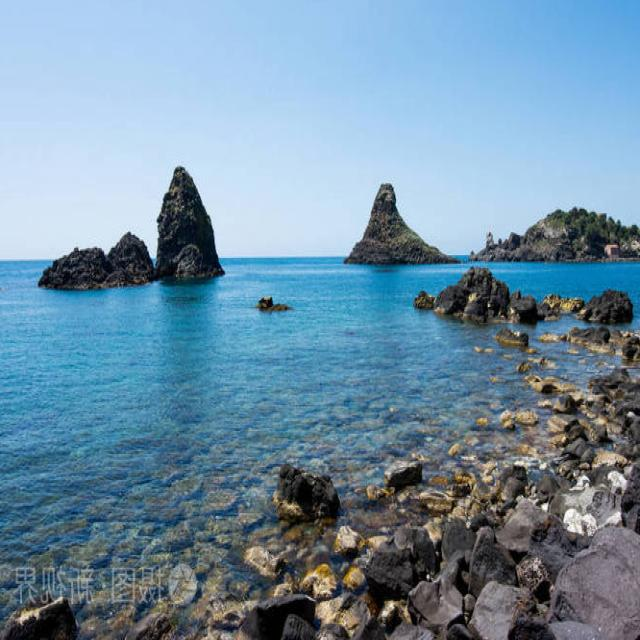reef: (34, 162, 227, 300), (348, 174, 454, 266)
